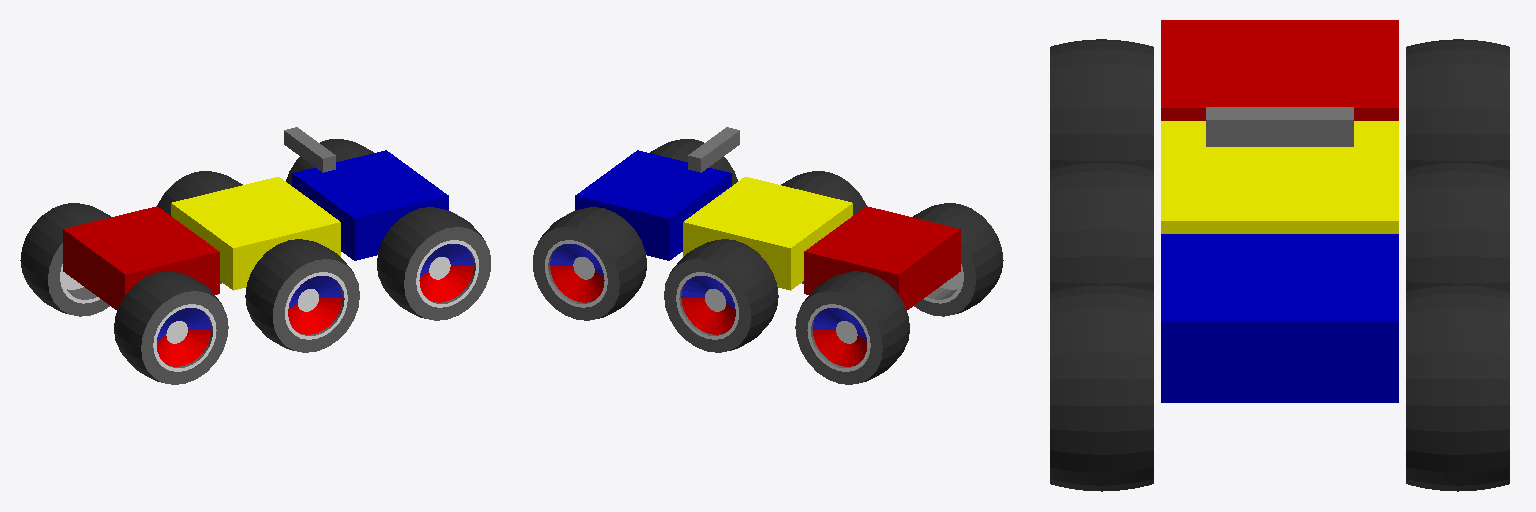
The robot description file, URDF, robot "caterpillar":
<?xml version="1.0"?>
<robot name="caterpillar" xmlns:xacro="http://ros.org/wiki/xacro">

  <material name="blue">
    <color rgba="0.0 0.0 0.8 1.0"/>
  </material>
  <material name="grey">
    <color rgba="0.5 0.5 0.5 1.0"/>
  </material>
  <material name="red">
    <color rgba="0.8 0.0 0.0 1.0"/>
  </material>
  <material name="yellow">
    <color rgba="1.0 1.0 0.0 1.0"/>
  </material>
  <material name="white">
    <color rgba="1.0 1.0 1.0 1.0"/>
  </material>
  <material name="black">
    <color rgba="0.01 0.01 0.01 0.9"/>
  </material>

  <link name="base_link">
    <origin xyz="0 0 0.07" rpy="0 0 0"/>
  </link>

  <joint name="base_to_mid" type="fixed">
    <parent link="base_link"/>
    <child link="mid_link"/>
    <origin xyz="0 0 0.04" rpy="0 0 0"/>
  </joint>

  <joint name="front_roll_joint" type="revolute">
    <parent link="mid_link"/>
    <child link="front_revolute_dummy"/>
    <origin xyz="0.09 0 0" rpy="0 0 0"/>
    <axis xyz="1 0 0"/>
    <limit lower="-0.3927" upper="0.3927" effort="10" velocity="1.0"/>
  </joint>

  <link name="front_revolute_dummy"/>

  <joint name="front_pitch_joint" type="revolute">
    <parent link="front_revolute_dummy"/>
    <child link="front_link"/>
    <origin xyz="0 0 0" rpy="0 0 0"/>
    <axis xyz="0 1 0"/>
    <limit lower="-0.3927" upper="0.3927" effort="10" velocity="1.0"/>
  </joint>

  <joint name="rear_roll_joint" type="revolute">
    <parent link="mid_link"/>
    <child link="rear_revolute_dummy"/>
    <origin xyz="-0.09 0 0" rpy="0 0 0"/>
    <axis xyz="1 0 0"/>
    <limit lower="-0.3927" upper="0.3927" effort="10" velocity="1.0"/>
  </joint>

  <link name="rear_revolute_dummy"/>

  <joint name="rear_pitch_joint" type="revolute">
    <parent link="rear_revolute_dummy"/>
    <child link="rear_link"/>
    <origin xyz="0 0 0" rpy="0 0 0"/>
    <axis xyz="0 1 0"/>
    <limit lower="-0.3927" upper="0.3927" effort="10" velocity="1.0"/>
  </joint>

  <link name="front_link">
    <visual>
      <origin xyz="0.08 0 0" rpy="0 0 0"/>
      <geometry>
        <box size="0.14 0.16 0.06"/>
      </geometry>
      <material name="blue"/>
    </visual>
  </link>

  <link name="mid_link">
    <visual>
      <origin xyz="0 0 0" rpy="0 0 0"/>
      <geometry>
        <box size="0.16 0.16 0.06"/>
      </geometry>
      <material name="yellow"/>
    </visual>
  </link>

  <link name="rear_link">
    <visual>
      <origin xyz="-0.08 0 0" rpy="0 0 0"/>
      <geometry>
        <box size="0.14 0.16 0.06"/>
      </geometry>
      <material name="red"/>
    </visual>
  </link>

  <joint name="front_left_wheel_joint" type="continuous">
    <parent link="front_link"/>
    <child link="front_left_wheel"/>
    <origin xyz="0.105 0.12 -0.04" rpy="-1.5707 0 0"/>
    <axis xyz="0 0 1"/>
  </joint>

  <joint name="front_right_wheel_joint" type="continuous">
    <parent link="front_link"/>
    <child link="front_right_wheel"/>
    <origin xyz="0.105 -0.12 -0.04" rpy="-1.5707 0 0"/>
    <axis xyz="0 0 1"/>
  </joint>

  <joint name="mid_left_wheel_joint" type="continuous">
    <parent link="mid_link"/>
    <child link="mid_left_wheel"/>
    <origin xyz="0 0.12 -0.04" rpy="-1.5707 0 0"/>
    <axis xyz="0 0 1"/>
  </joint>

  <joint name="mid_right_wheel_joint" type="continuous">
    <parent link="mid_link"/>
    <child link="mid_right_wheel"/>
    <origin xyz="0 -0.12 -0.04" rpy="-1.5707 0 0"/>
    <axis xyz="0 0 1"/>
  </joint>

  <joint name="rear_left_wheel_joint" type="continuous">
    <parent link="rear_link"/>
    <child link="rear_left_wheel"/>
    <origin xyz="-0.105 0.12 -0.04" rpy="-1.5707 0 0"/>
    <axis xyz="0 0 1"/>
  </joint>

  <joint name="rear_right_wheel_joint" type="continuous">
    <parent link="rear_link"/>
    <child link="rear_right_wheel"/>
    <origin xyz="-0.105 -0.12 -0.04" rpy="-1.5707 0 0"/>
    <axis xyz="0 0 1"/>
  </joint>

  <link name="front_left_wheel">
    <visual>
      <origin xyz="0 0 0" rpy="0 0 0"/>
      <geometry>
        <mesh filename="package://rosrider_description/meshes/rover_wheel_left.dae" scale="1 1 1"/>
      </geometry>
    </visual>
  </link>

  <link name="front_right_wheel">
    <visual>
      <origin xyz="0 0 0" rpy="0 0 0"/>
      <geometry>
        <mesh filename="package://rosrider_description/meshes/rover_wheel_right.dae" scale="1 1 1"/>
      </geometry>
    </visual>
  </link>

  <link name="mid_left_wheel">
    <visual>
      <origin xyz="0 0 0" rpy="0 0 0"/>
      <geometry>
        <mesh filename="package://rosrider_description/meshes/rover_wheel_left.dae" scale="1 1 1"/>
      </geometry>
    </visual>
  </link>

  <link name="mid_right_wheel">
    <visual>
      <origin xyz="0 0 0" rpy="0 0 0"/>
      <geometry>
        <mesh filename="package://rosrider_description/meshes/rover_wheel_right.dae" scale="1 1 1"/>
      </geometry>
    </visual>
  </link>

  <link name="rear_left_wheel">
    <visual>
      <origin xyz="0 0 0" rpy="0 0 0"/>
      <geometry>
        <mesh filename="package://rosrider_description/meshes/rover_wheel_left.dae" scale="1 1 1"/>
      </geometry>
    </visual>
  </link>

  <link name="rear_right_wheel">
    <visual>
      <origin xyz="0 0 0" rpy="0 0 0"/>
      <geometry>
        <mesh filename="package://rosrider_description/meshes/rover_wheel_right.dae" scale="1 1 1"/>
      </geometry>
    </visual>
  </link>

  <joint name="scan_joint" type="fixed">
    <parent link="front_link"/>
    <child link="base_scan_3d"/>
    <origin xyz="0 0 0.1" rpy="0 0 0"/>
  </joint>
  <link name="base_scan_3d">
    <visual>
      <origin xyz="-0.01 0 0" rpy="0 0 0"/>
      <geometry>
        <box size="0.02 0.1 0.02"/>
      </geometry>
      <material name="grey"/>
    </visual>
  </link>

  <joint name="imu_joint" type="fixed">
    <parent link="front_link"/>
    <child link="imu_link"/>
    <origin xyz="0.105 0 0" rpy="0 0 0"/>
  </joint>
  <link name="imu_link">
    <visual>
      <origin xyz="0 0 0" rpy="0 0 0"/>
      <geometry>
        <mesh filename="package://rosrider_description/meshes/fximu3e.dae" scale="1 1 1"/>
      </geometry>
    </visual>
  </link>

</robot>

--- Facts derived from the render (not from the file) ---
Views: 3 orthographic renders of the robot side by side, from view 1: azimuth 30°, elevation 25°; view 2: azimuth 150°, elevation 25°; view 3: azimuth 270°, elevation 25°.
Model caterpillar with 14 links and 13 joints (4 revolute, 6 continuous, 3 fixed), rooted at base_link, posed every joint at zero.
Visible links, largest first — view 1: rear_right_wheel, mid_right_wheel, front_right_wheel, rear_link, mid_link, front_link, rear_left_wheel, mid_left_wheel, base_scan_3d, front_left_wheel; view 2: rear_left_wheel, mid_left_wheel, front_left_wheel, rear_link, mid_link, front_link, rear_right_wheel, mid_right_wheel, base_scan_3d, front_right_wheel; view 3: front_link, mid_link, rear_link, front_left_wheel, front_right_wheel, rear_left_wheel, rear_right_wheel, mid_left_wheel, mid_right_wheel, base_scan_3d.
Boxes of the visible links, box(x1,y1,x2,y2) form: rear_right_wheel: box(114, 271, 228, 384); mid_right_wheel: box(245, 239, 359, 352); front_right_wheel: box(377, 207, 490, 320); rear_link: box(63, 206, 219, 310); mid_link: box(171, 177, 340, 290); front_link: box(292, 150, 448, 260); rear_left_wheel: box(20, 203, 110, 316); mid_left_wheel: box(157, 171, 242, 283); base_scan_3d: box(284, 127, 335, 172); front_left_wheel: box(286, 139, 373, 185); rear_left_wheel: box(795, 271, 909, 384); mid_left_wheel: box(664, 239, 778, 352); front_left_wheel: box(533, 207, 646, 320); rear_link: box(804, 206, 960, 310); mid_link: box(683, 177, 852, 290); front_link: box(575, 150, 731, 260); rear_right_wheel: box(913, 203, 1003, 316); mid_right_wheel: box(781, 171, 866, 283); base_scan_3d: box(688, 127, 739, 172); front_right_wheel: box(650, 139, 737, 185); front_link: box(1161, 234, 1398, 402); mid_link: box(1161, 121, 1398, 233); rear_link: box(1161, 20, 1398, 120); front_left_wheel: box(1406, 284, 1509, 491); front_right_wheel: box(1050, 284, 1153, 491); rear_left_wheel: box(1406, 39, 1509, 168); rear_right_wheel: box(1050, 39, 1153, 168); mid_left_wheel: box(1406, 162, 1509, 291); mid_right_wheel: box(1050, 162, 1153, 291); base_scan_3d: box(1206, 107, 1353, 146).
Bounding box of the posed robot: 0.53 × 0.31 × 0.22 m (x, y, z).
7 mesh visuals loaded from 3 distinct referenced files (3 Collada DAE).
